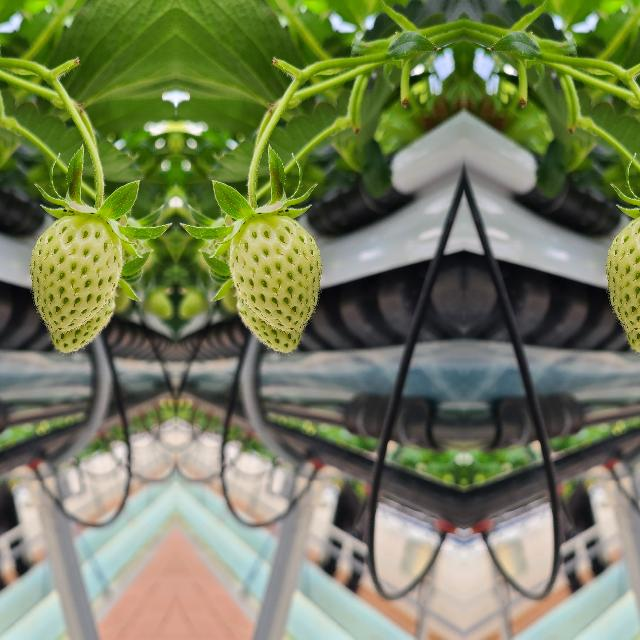Health_25: (29, 215, 122, 331), (228, 215, 320, 331), (605, 215, 640, 331)
